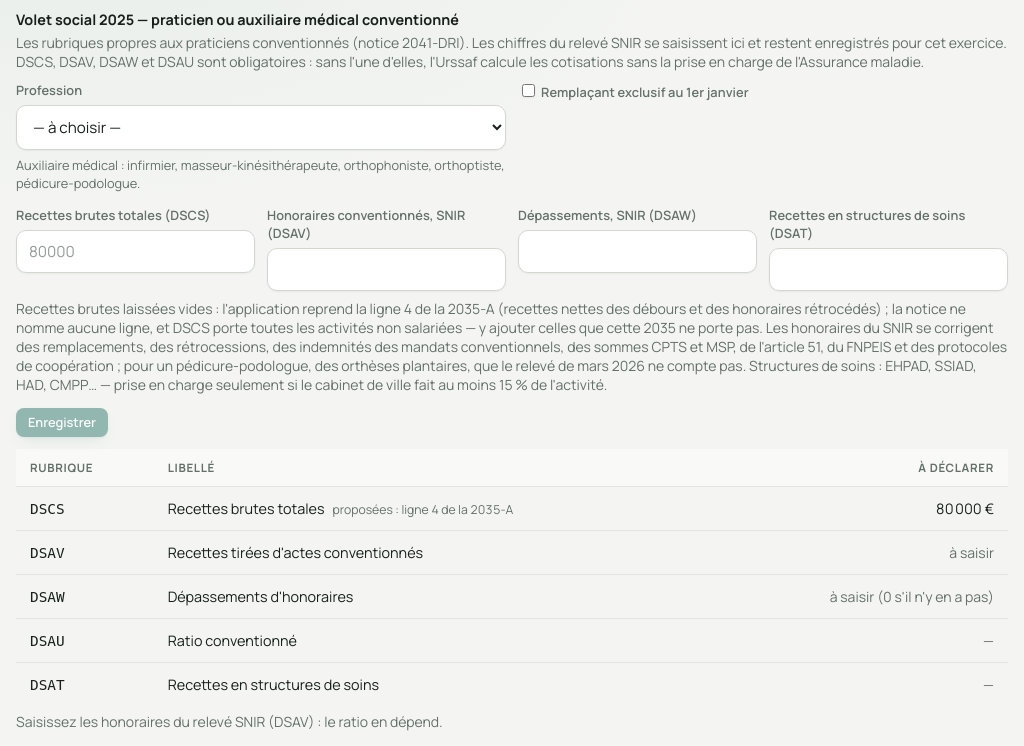
Test: la retraite d’un médecin, ses deux cases en base › l’année du début qui précède l’affiliation (RET2-Q3) : rien d’appelé, dit, sans rien demander du cumul ni de la dispense
This screenshot has width=1024, height=746.
Select "Médecin, secteur 1" in the dropdown labelled "Profession" at point(261, 128), box [16,105,506,150]
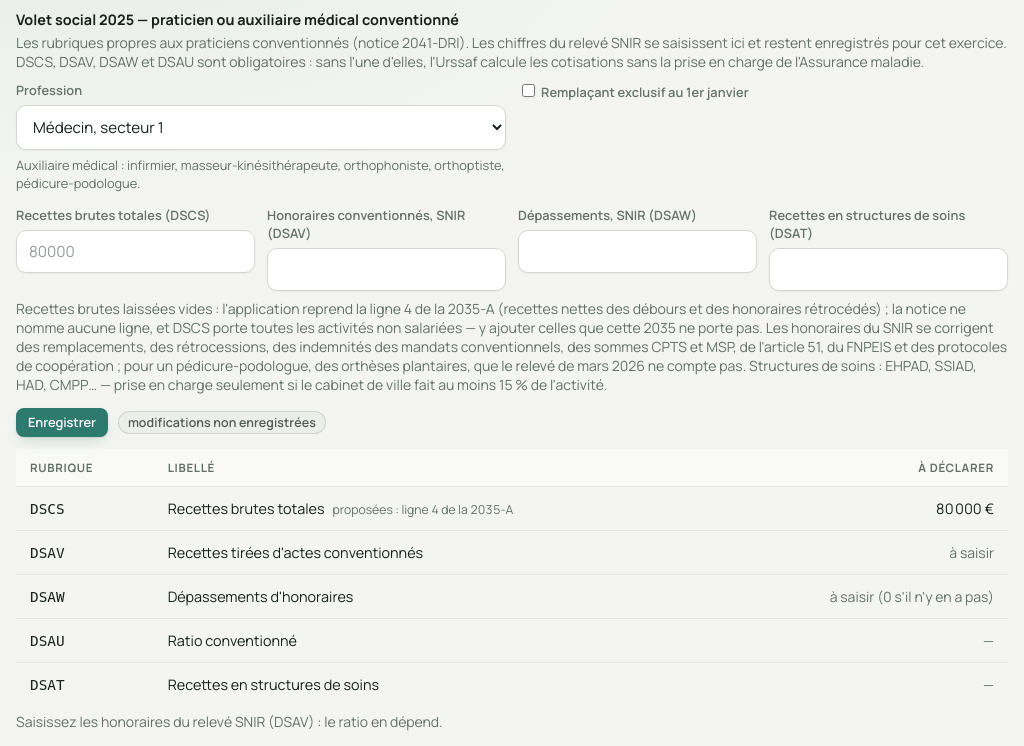
Type "80000" into the number field labelled "Honoraires conventionnés, SNIR (DSAV)" at point(386, 270), box [267,248,506,291]
(page scrolled)
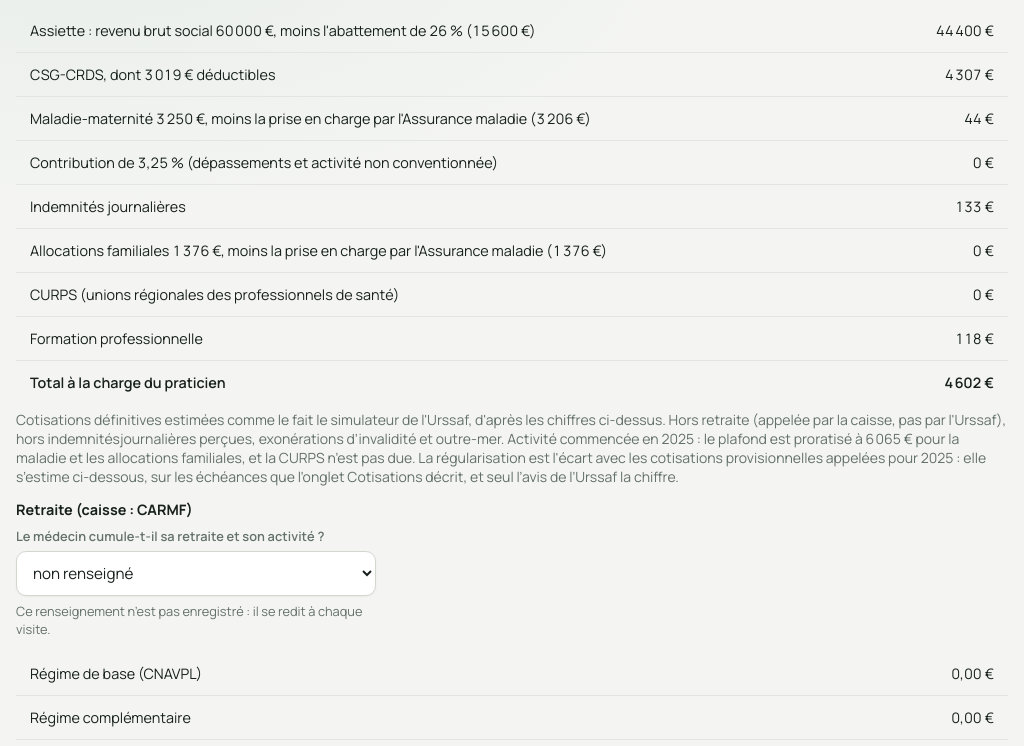
Expected: the text "Total à la charge du praticien" is shown, [16,360,884,404]
